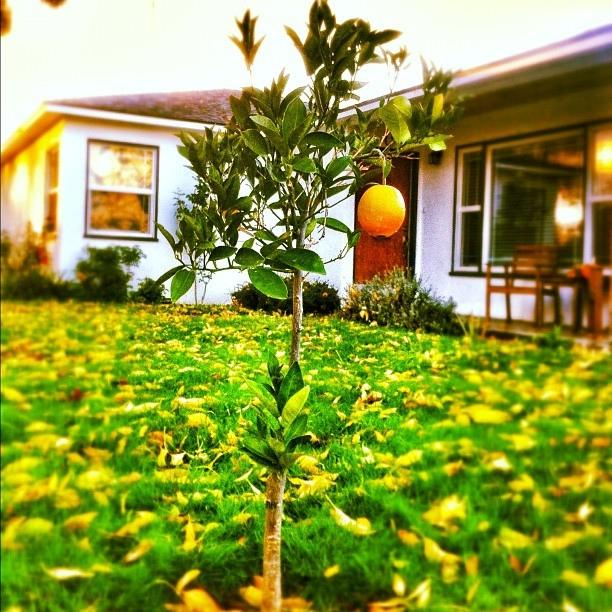orange: (358, 184, 406, 241)
